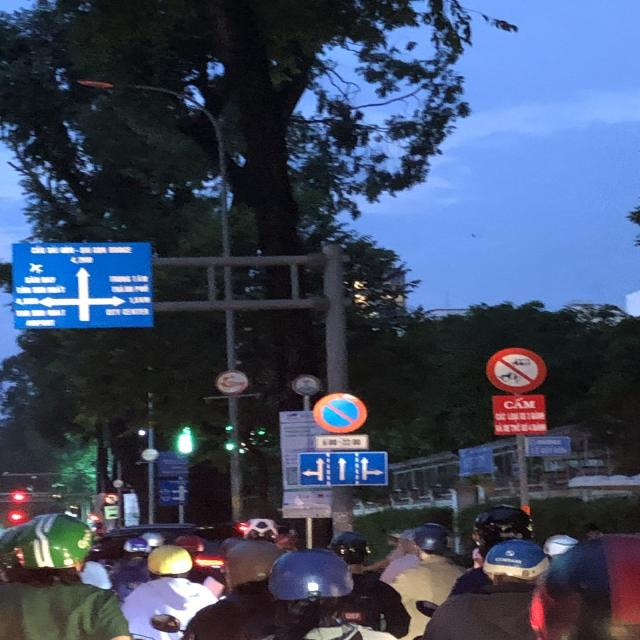Bien bao cam do xe: (307, 386, 369, 434)
